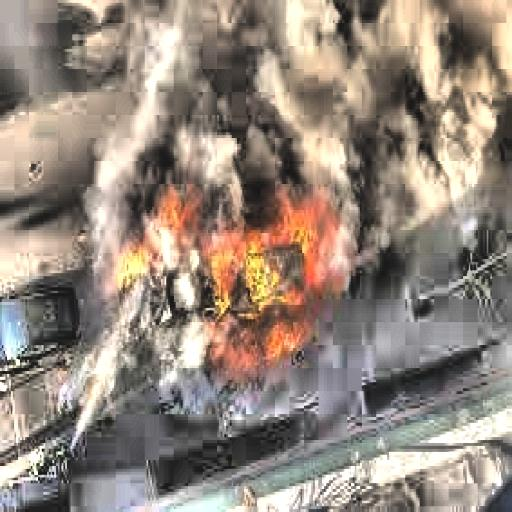fire: (118, 152, 352, 382)
